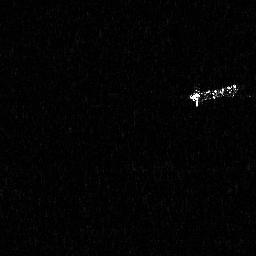ship: (188, 81, 240, 108)
